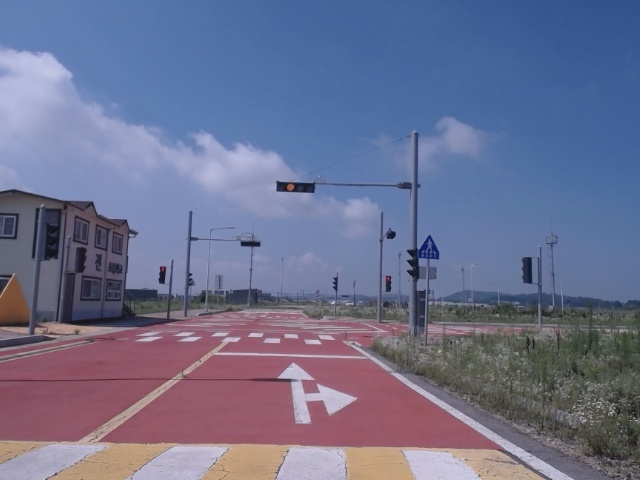orange_4: (276, 181, 316, 193)
